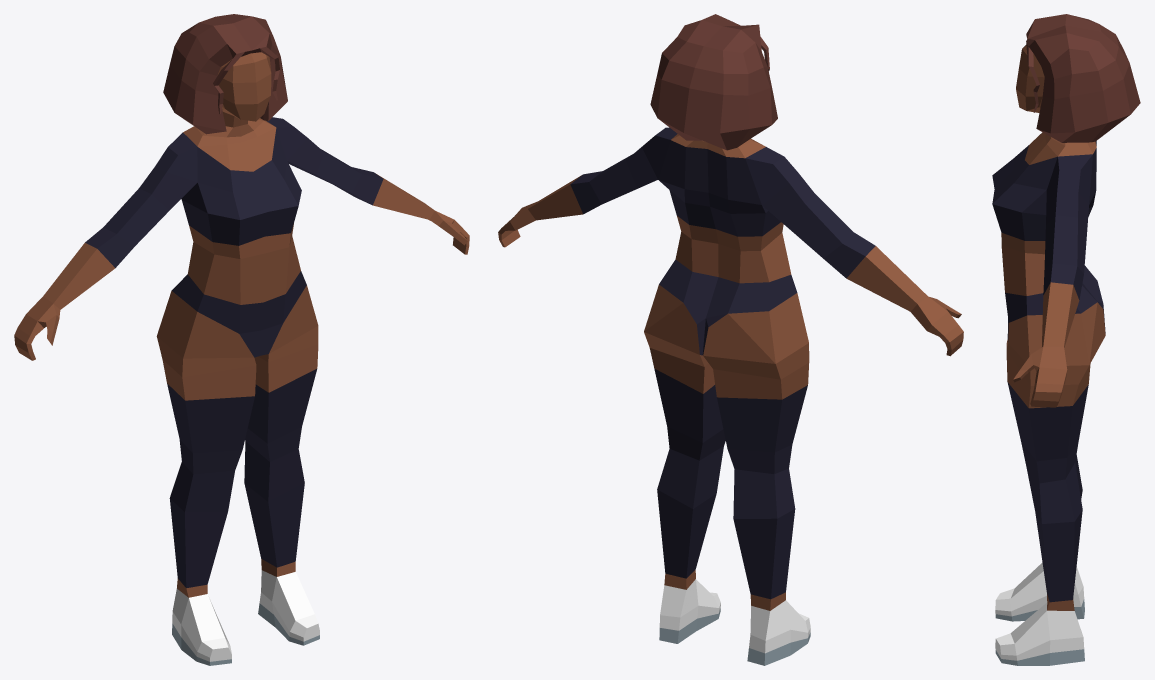
File: female_01_a.fbx
The picture shows the model from 3 angles, left to right: view 1: azimuth 30°, elevation 25°; view 2: azimuth 150°, elevation 25°; view 3: azimuth 270°, elevation 25°; orthographic projection. The views are drawn at different scales.
Visible parts, largest first — view 1: female_01_a; view 2: female_01_a; view 3: female_01_a.
Boxes of the visible parts, bbox=[...] form: female_01_a: bbox=[14, 14, 469, 665]; female_01_a: bbox=[498, 14, 963, 665]; female_01_a: bbox=[992, 14, 1140, 665].
Bounding box in the file's own units: 124 × 162 × 35.58.
Materials: 1 (1 with a texture image).
